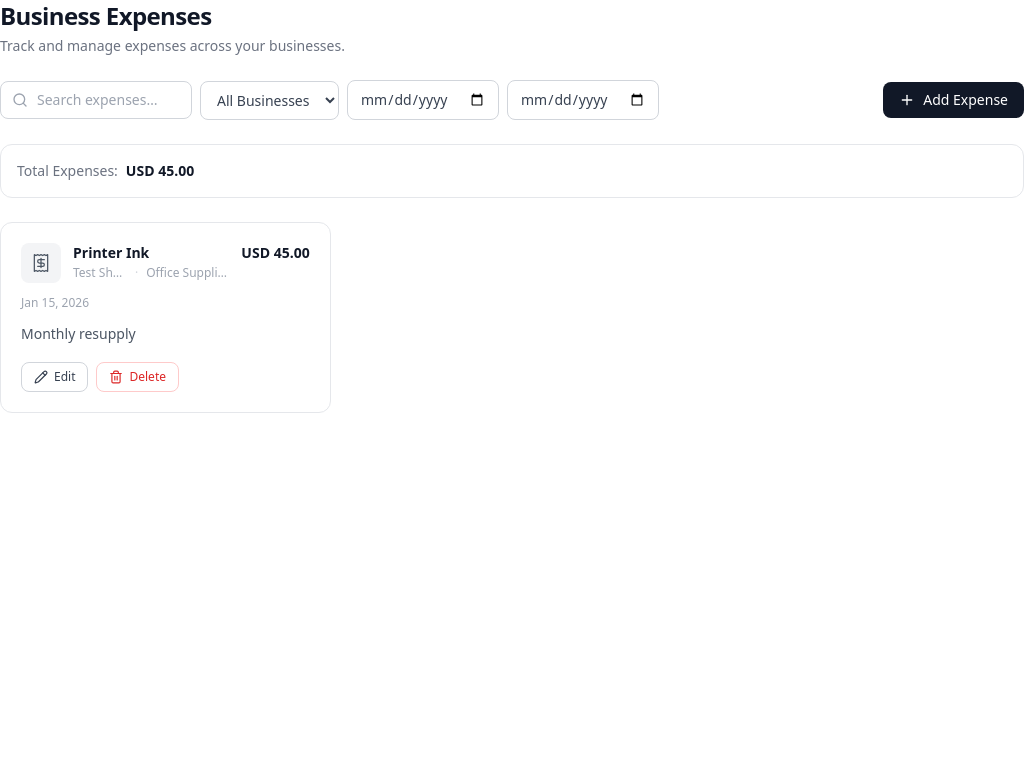
Test: BusinessExpensesPage — delete › cancel does not delete
The image size is (1024, 768).
Expected: the heading "Printer Ink" is shown, left=73, top=243, right=149, bottom=262
Step 1. Click the button with aria-label "Delete Printer Ink" → (138, 377), box left=96, top=362, right=179, bottom=392
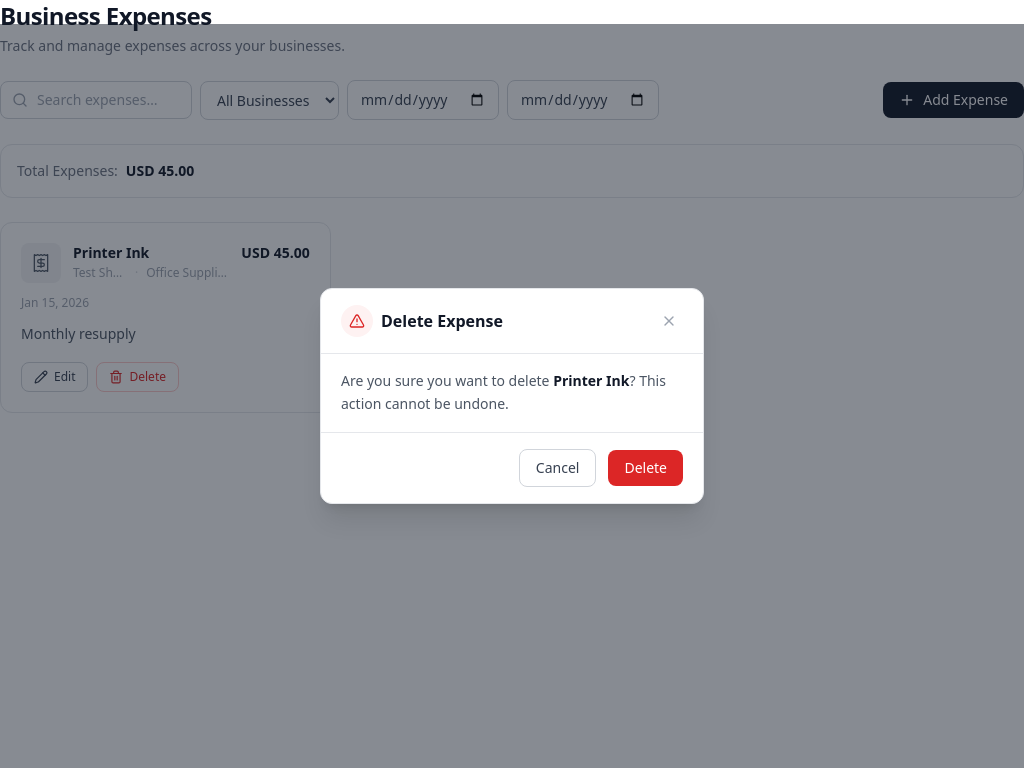
Expected: the dialog is shown, left=320, top=288, right=704, bottom=504
Step 2. Click the button "Cancel" → (558, 468), box left=519, top=449, right=596, bottom=487
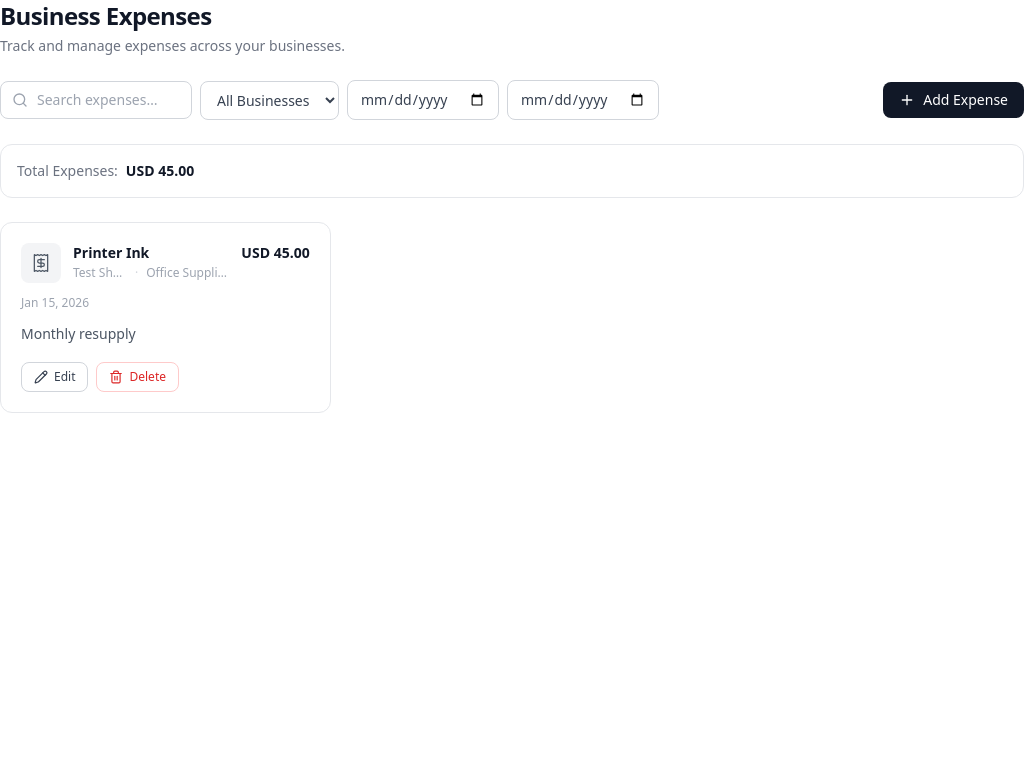
Expected: the dialog is gone
